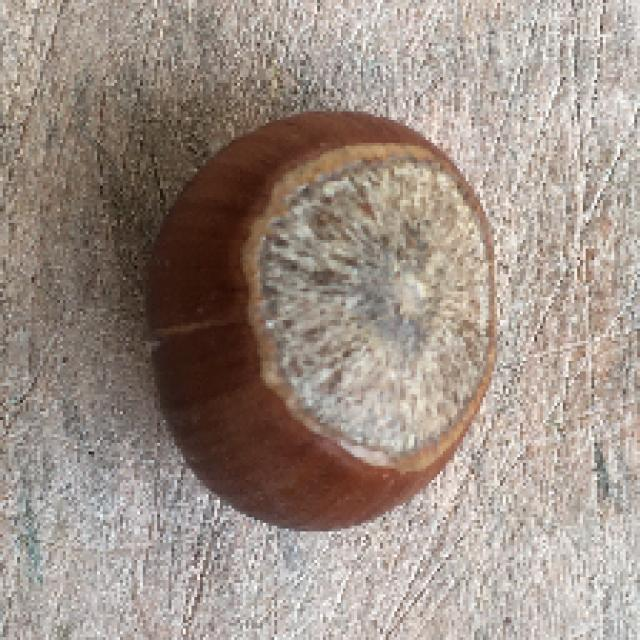qualityHazelnut: (145, 97, 502, 545)
